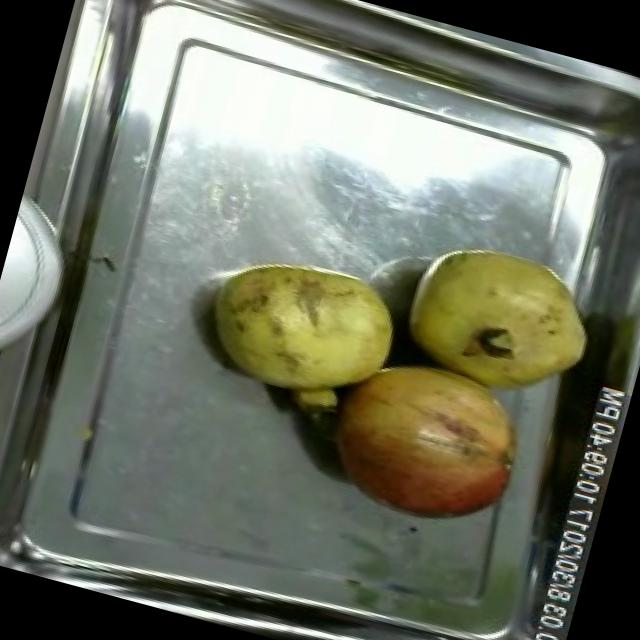fruit: (298, 334, 548, 550), (182, 231, 417, 427), (385, 222, 613, 416)
